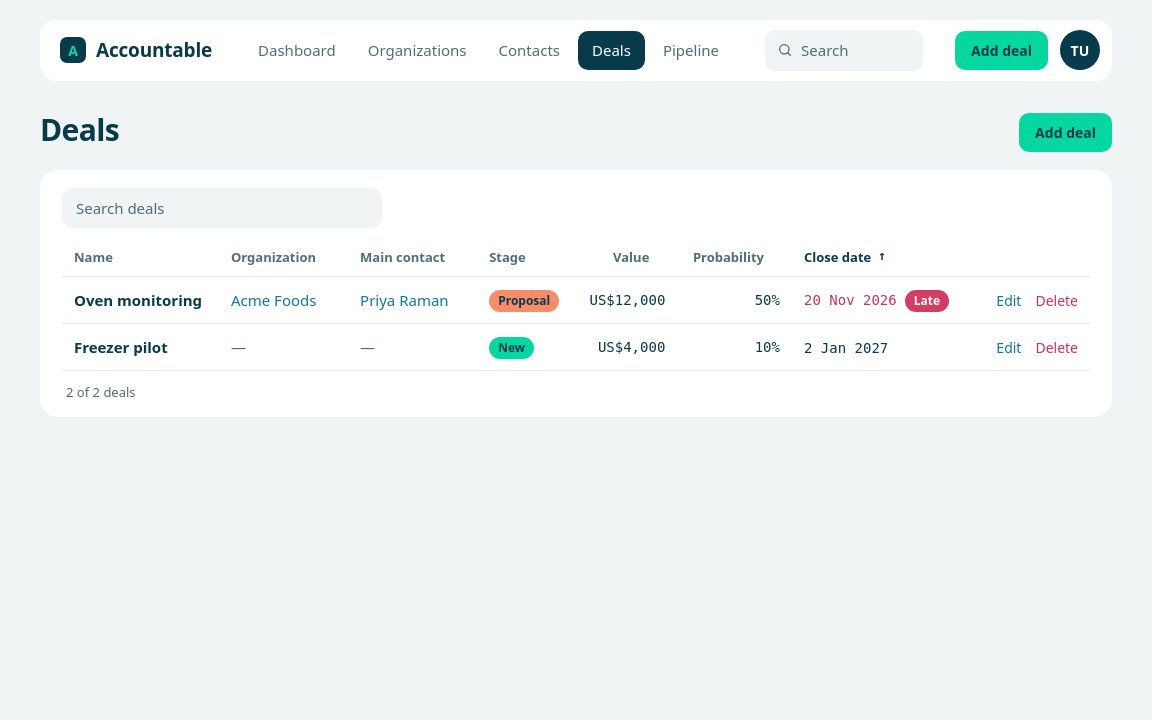
Test case: deleting a deal says its activities go too
The width and height of the screenshot is (1152, 720).
Later steps or results of the test are not shown.
Check: the link "Oven monitoring" is shown, box [74, 290, 202, 310]
Click the button with aria-label "Delete Oven monitoring" at (1057, 300), box [1035, 290, 1078, 311]
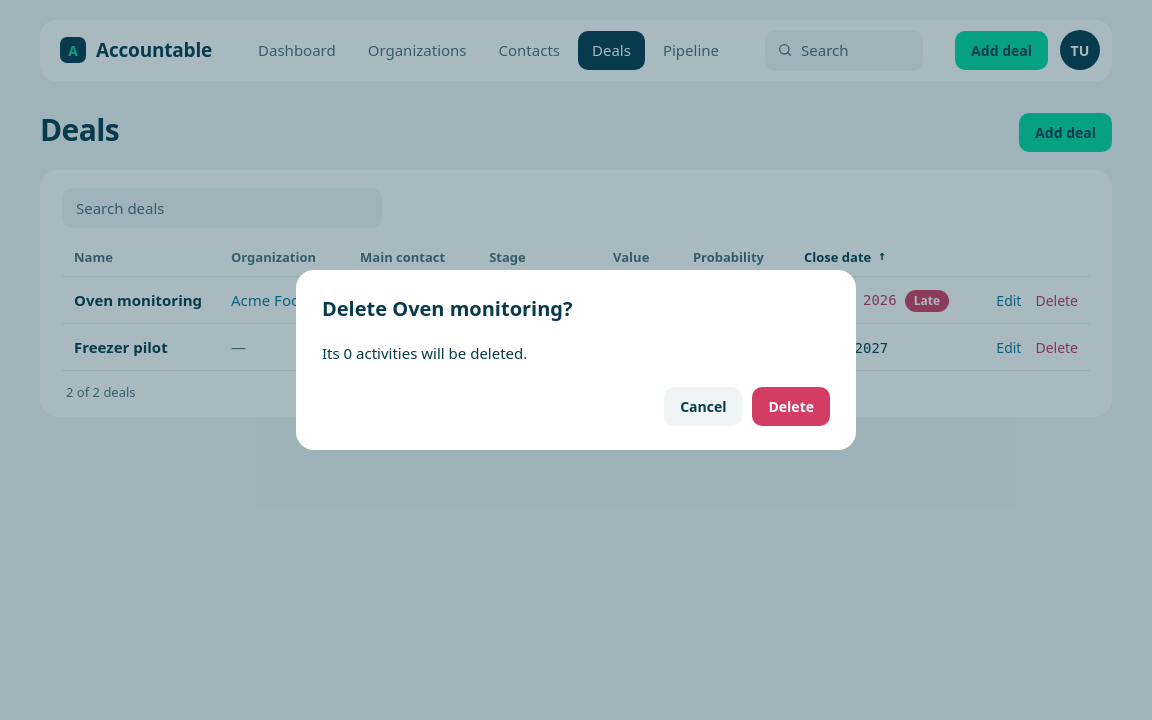
Check: the text "Its 0 activities will be deleted." is shown, box [322, 343, 527, 363]
